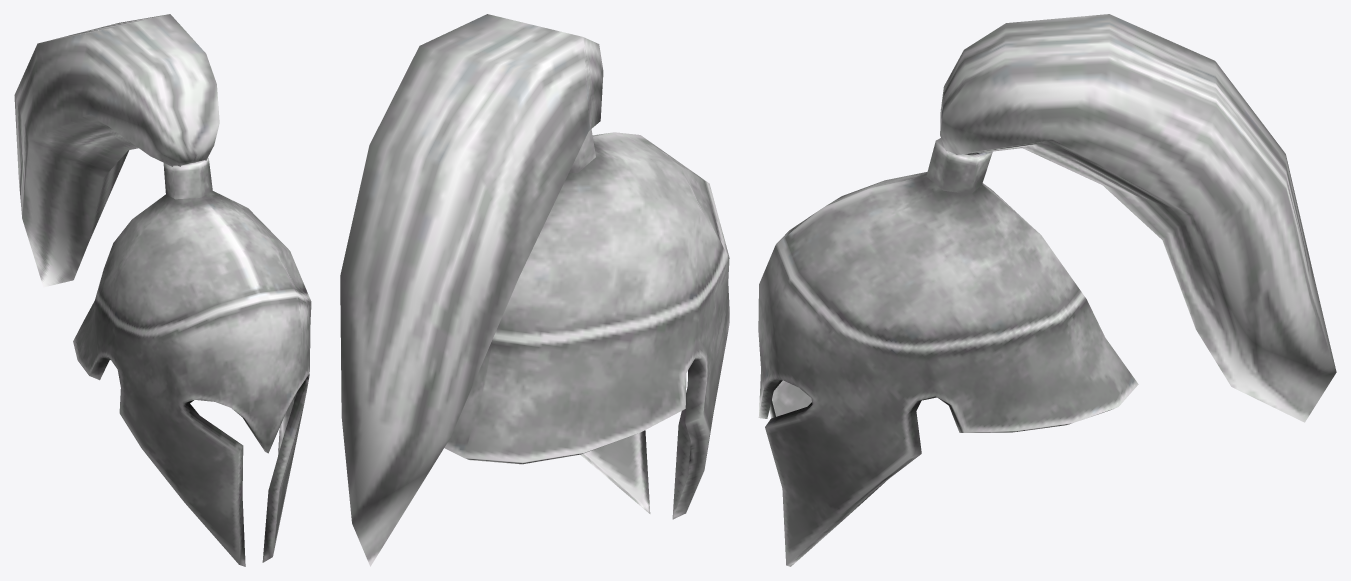
Rendered from rider-helmet-slice-heavycavalry.glb.
The picture shows the model from 3 angles, left to right: view 1: azimuth 30°, elevation 25°; view 2: azimuth 150°, elevation 25°; view 3: azimuth 270°, elevation 25°; orthographic projection. The views are drawn at different scales.
Size of the model in its own units: 0.2634 by 0.5911 by 0.5873.
1 material, 1 textured.
